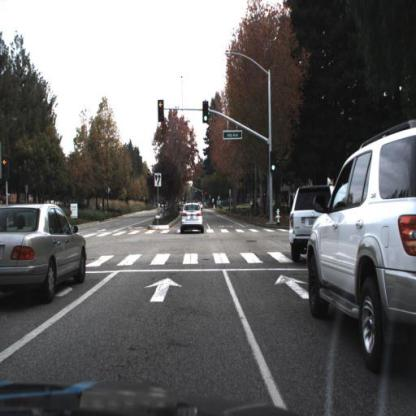car: (305, 115, 416, 377), (1, 201, 89, 306), (289, 186, 336, 263), (179, 200, 206, 238), (278, 198, 300, 219)
trafficLight-Green: (202, 100, 212, 125), (270, 150, 279, 175)
trafficLight-RedLeft: (158, 99, 166, 124), (158, 99, 166, 123)
